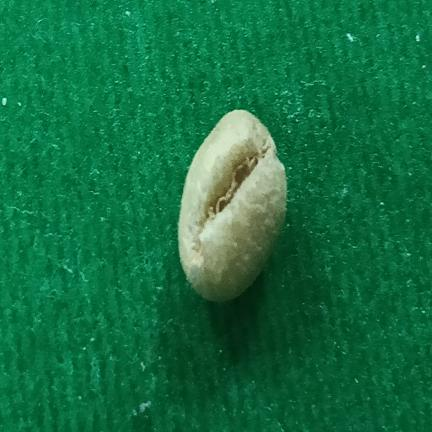good: (178, 110, 287, 301)
